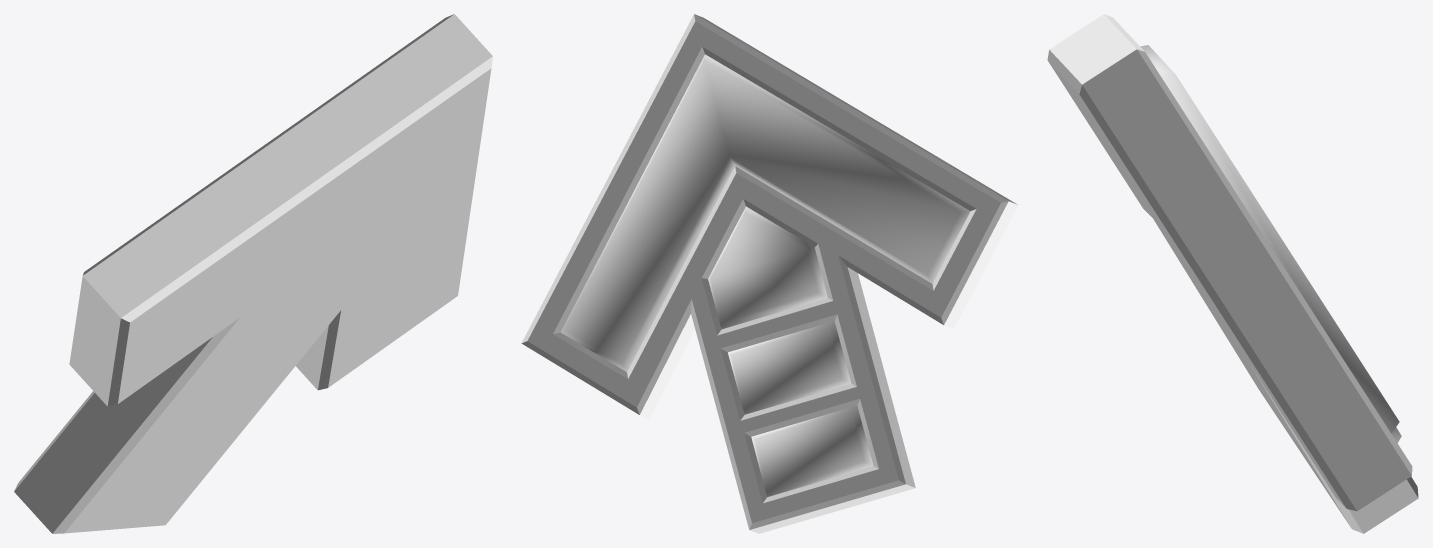
Rendered from icon.ico.obj.
3 views of the same model, side by side, from view 1: azimuth 30°, elevation 25°; view 2: azimuth 150°, elevation 25°; view 3: azimuth 270°, elevation 25° (orthographic). The views are drawn at different scales.
Bounding box in the file's own units: 3.78 × 3.98 × 2.29.
Materials: 1 (1 with a texture image).
